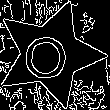O_N: (26, 28, 73, 81)
